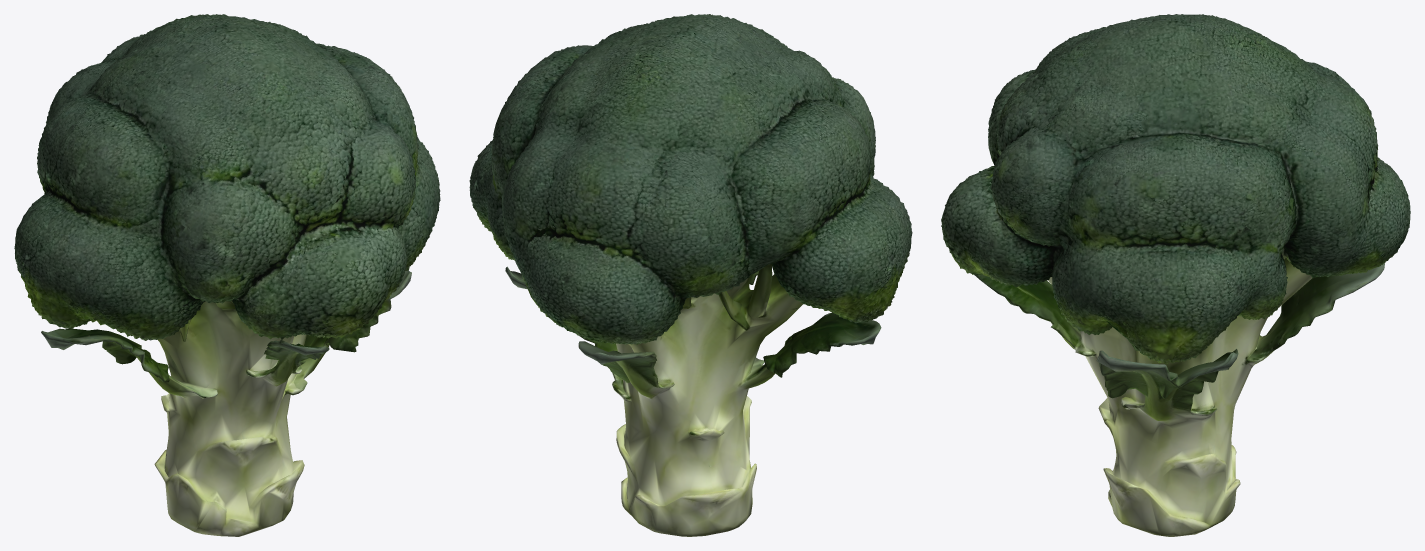
The model's file is broccoli.glb.
3 renders of one model, left to right at view 1: azimuth 30°, elevation 25°; view 2: azimuth 150°, elevation 25°; view 3: azimuth 270°, elevation 25°, orthographic.
Visible parts, largest first — view 1: node_0; view 2: node_0; view 3: node_0.
Part boxes in pixels (bbox=[...]): node_0: bbox=[14, 14, 440, 536]; node_0: bbox=[469, 14, 912, 536]; node_0: bbox=[941, 14, 1410, 536].
Size of the model in its own units: 1.03 by 1.17 by 1.02.
1 material, 1 textured.
